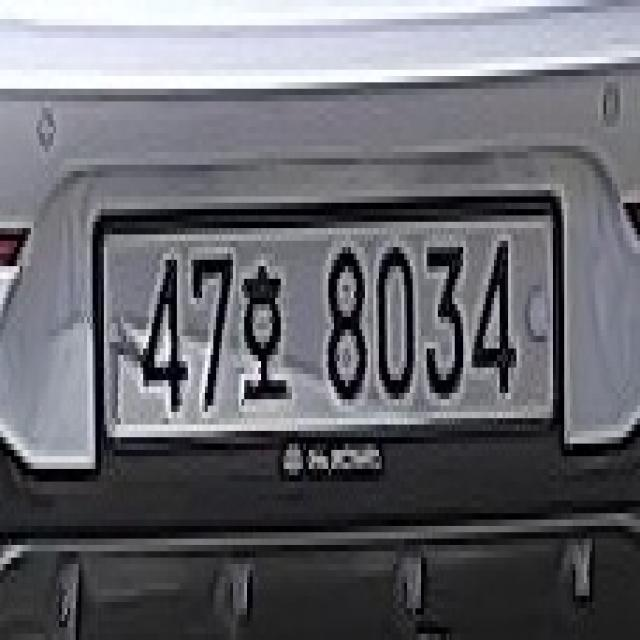0: (372, 243, 420, 419)
3: (424, 237, 466, 417)
4: (137, 243, 192, 438), (470, 231, 520, 414)
7: (190, 249, 238, 427)
8: (322, 236, 369, 428)
ho: (240, 256, 292, 424)
license_plate: (78, 188, 577, 458)
